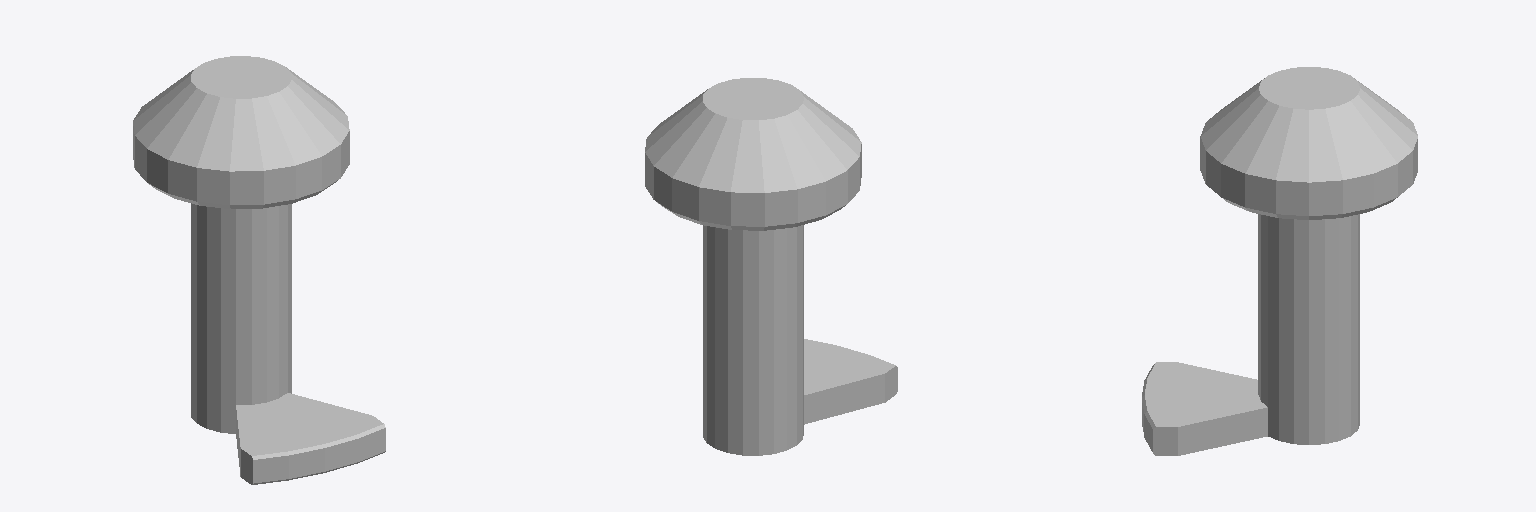
File: QualityUpgradeB2.obj
3 views of the same model, side by side, from view 1: azimuth 30°, elevation 25°; view 2: azimuth 150°, elevation 25°; view 3: azimuth 270°, elevation 25° (orthographic).
Visible parts, largest first — view 1: pCylinder11 QualityUpgradeB_PARTS; view 2: pCylinder11 QualityUpgradeB_PARTS; view 3: pCylinder11 QualityUpgradeB_PARTS.
Part boxes in pixels (left/top/right/bottom): pCylinder11 QualityUpgradeB_PARTS: left=133, top=56, right=385, bottom=484; pCylinder11 QualityUpgradeB_PARTS: left=645, top=78, right=897, bottom=455; pCylinder11 QualityUpgradeB_PARTS: left=1142, top=67, right=1417, bottom=455.
Bounding box in the file's own units: 0.4557 × 0.7738 × 0.5788.